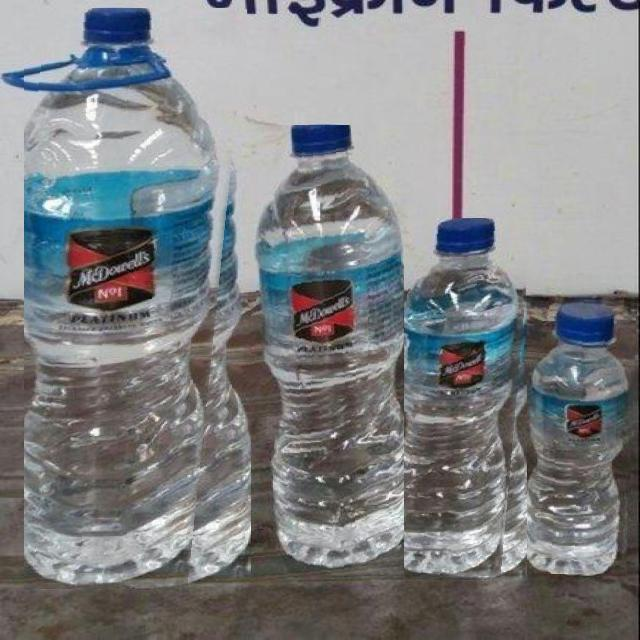plastic bottle: (24, 8, 248, 591), (251, 125, 415, 585), (404, 218, 533, 582), (527, 298, 637, 574)
